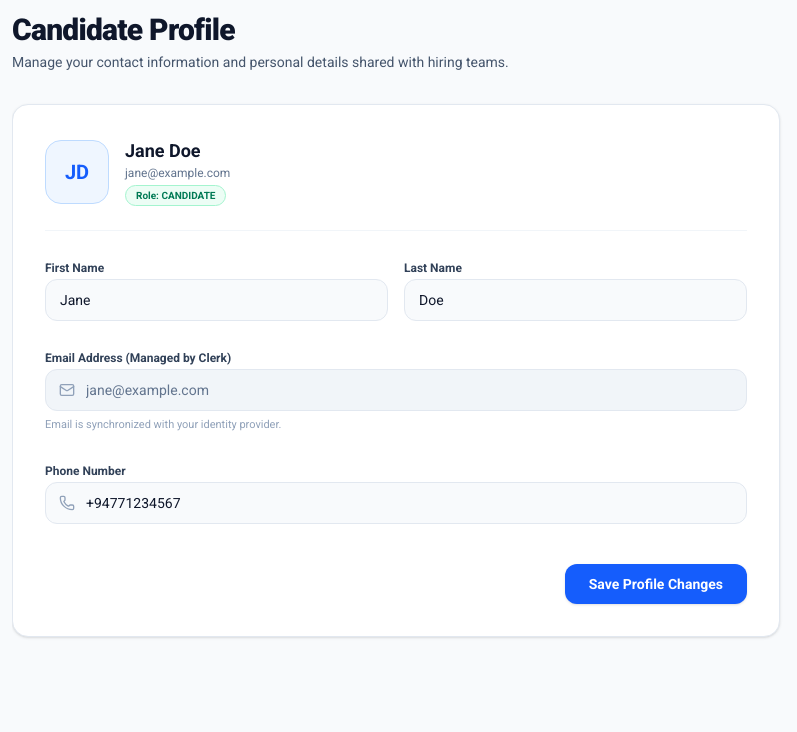
Scenario: CandidateProfilePage - Form Validation and Error Handling › form validation › displays error when required first name or last name is missing
Clear the field showing "Jane" below "First Name" at (216, 300), box [45, 279, 388, 321]
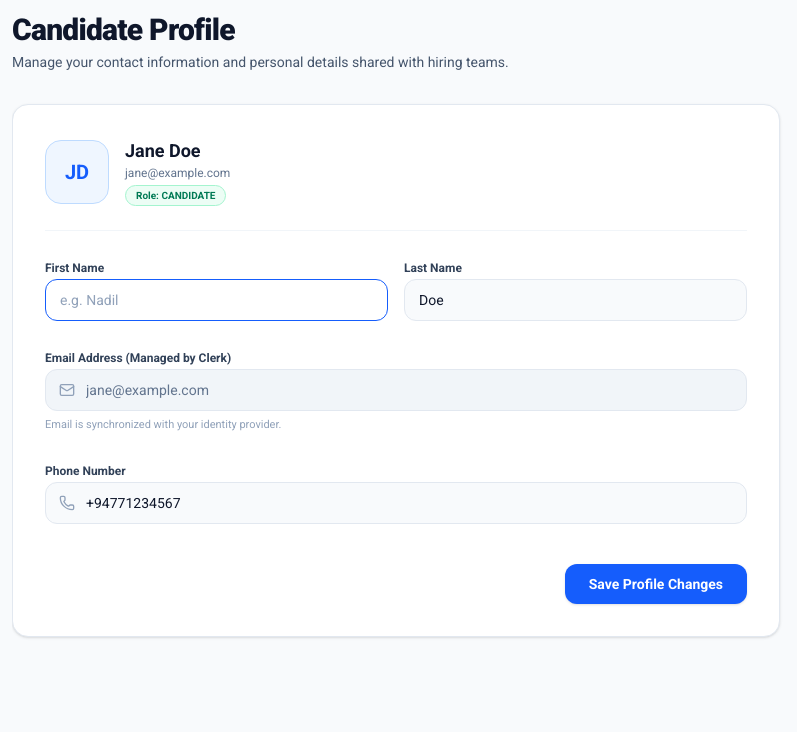
Click the button "Save Profile Changes" at (656, 584), box [565, 564, 747, 604]
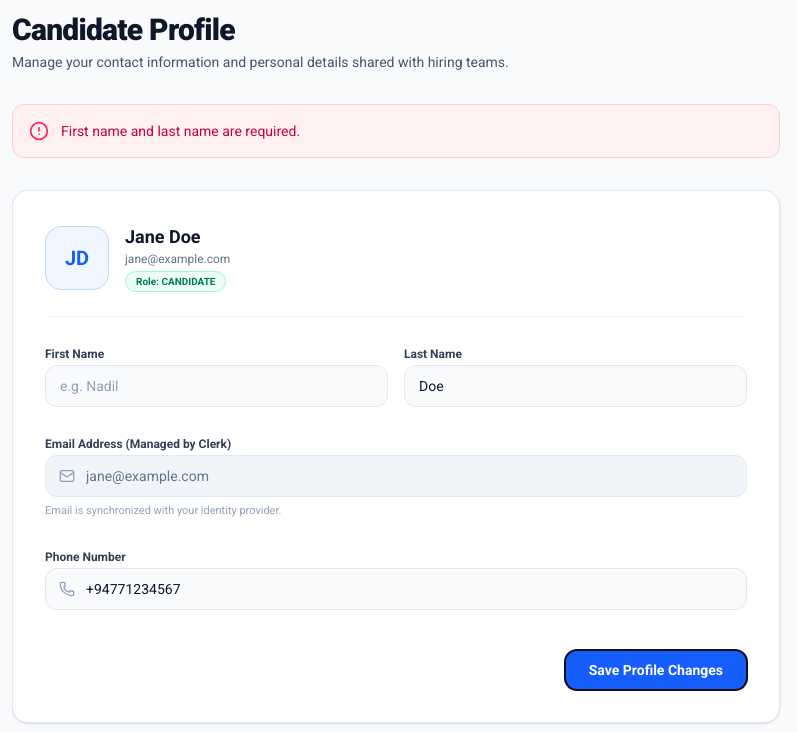
Now the text "First name and last name are required." is shown, box [61, 121, 300, 141]
